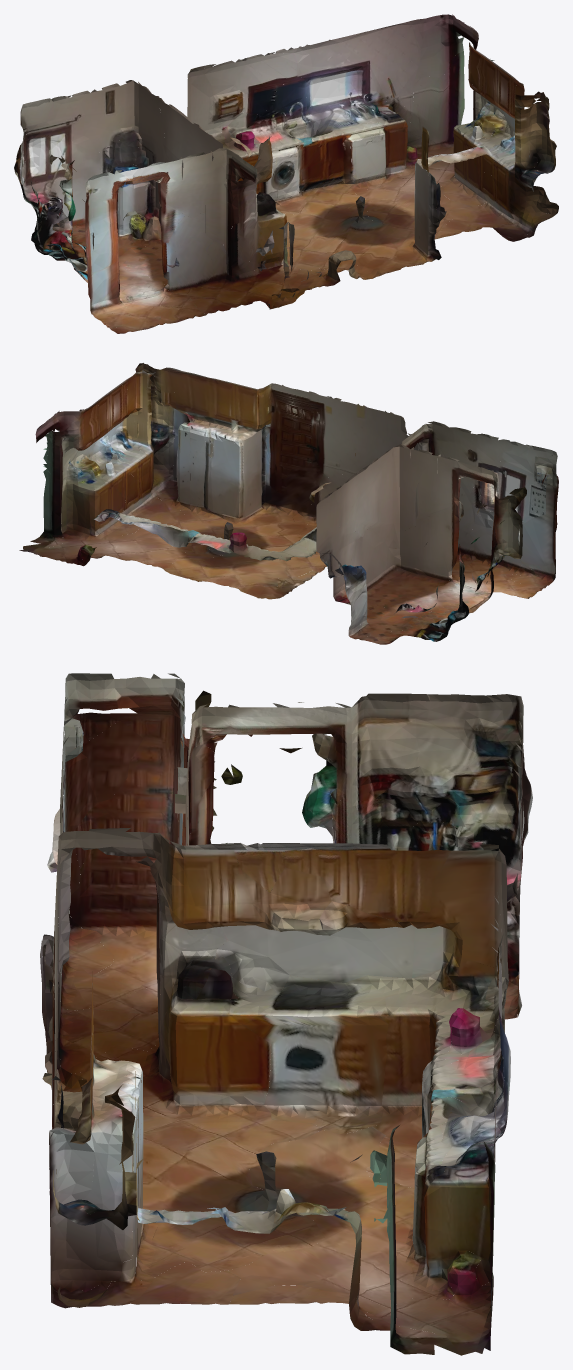
File: esc_baja_muros_02.glb
The picture shows the model from 3 angles, top to bottom: view 1: azimuth 30°, elevation 25°; view 2: azimuth 150°, elevation 25°; view 3: azimuth 270°, elevation 25°; orthographic projection. The views are drawn at different scales.
Parts seen in each view (by area): view 1: muros_Planta_principal_2_GLTF_13, muros_Planta_principal_2_GLTF_11, muros_Planta_principal_2_GLTF_7, muros_Planta_principal_2_GLTF_8, muros_Planta_principal_2_GLTF_1, muros_Planta_principal_2_GLTF_12, muros_Planta_principal_2_GLTF_4, muros_Planta_principal_2_GLTF_2, muros_Planta_principal_2_GLTF_14, muros_Planta_principal_2_GLTF_10, muros_Planta_principal_2_GLTF_5, muros_Planta_principal_2_GLTF_6 (+3 smaller); view 2: muros_Planta_principal_2_GLTF_7, muros_Planta_principal_2_GLTF_5, muros_Planta_principal_2_GLTF_3, muros_Planta_principal_2_GLTF_13, muros_Planta_principal_2_GLTF_14, muros_Planta_principal_2_GLTF_2, muros_Planta_principal_2_GLTF_15, muros_Planta_principal_2_GLTF_11, muros_Planta_principal_2_GLTF_10, muros_Planta_principal_2_GLTF, muros_Planta_principal_2_GLTF_4, muros_Planta_principal_2_GLTF_8 (+4 smaller); view 3: muros_Planta_principal_2_GLTF_14, muros_Planta_principal_2_GLTF_7, muros_Planta_principal_2_GLTF_6, muros_Planta_principal_2_GLTF_11, muros_Planta_principal_2_GLTF_5, muros_Planta_principal_2_GLTF_13, muros_Planta_principal_2_GLTF_2, muros_Planta_principal_2_GLTF_4, muros_Planta_principal_2_GLTF_15, muros_Planta_principal_2_GLTF, muros_Planta_principal_2_GLTF_3, muros_Planta_principal_2_GLTF_8 (+4 smaller).
Boxes of the visible parts, x1=… form: muros_Planta_principal_2_GLTF_13: x1=59, y1=61, x2=558, y2=329; muros_Planta_principal_2_GLTF_11: x1=162, y1=66, x2=471, y2=314; muros_Planta_principal_2_GLTF_7: x1=82, y1=90, x2=514, y2=308; muros_Planta_principal_2_GLTF_8: x1=22, y1=80, x2=279, y2=274; muros_Planta_principal_2_GLTF_1: x1=173, y1=21, x2=549, y2=266; muros_Planta_principal_2_GLTF_12: x1=124, y1=51, x2=541, y2=309; muros_Planta_principal_2_GLTF_4: x1=112, y1=34, x2=557, y2=326; muros_Planta_principal_2_GLTF_2: x1=92, y1=57, x2=529, y2=255; muros_Planta_principal_2_GLTF_14: x1=50, y1=90, x2=515, y2=297; muros_Planta_principal_2_GLTF_10: x1=411, y1=14, x2=556, y2=241; muros_Planta_principal_2_GLTF_5: x1=64, y1=152, x2=446, y2=270; muros_Planta_principal_2_GLTF_6: x1=14, y1=96, x2=340, y2=298; muros_Planta_principal_2_GLTF_7: x1=45, y1=429, x2=526, y2=577; muros_Planta_principal_2_GLTF_5: x1=261, y1=391, x2=505, y2=590; muros_Planta_principal_2_GLTF_3: x1=125, y1=370, x2=508, y2=615; muros_Planta_principal_2_GLTF_13: x1=93, y1=372, x2=554, y2=639; muros_Planta_principal_2_GLTF_14: x1=82, y1=367, x2=546, y2=599; muros_Planta_principal_2_GLTF_2: x1=43, y1=421, x2=529, y2=548; muros_Planta_principal_2_GLTF_15: x1=69, y1=376, x2=558, y2=585; muros_Planta_principal_2_GLTF_11: x1=85, y1=509, x2=476, y2=594; muros_Planta_principal_2_GLTF_10: x1=35, y1=363, x2=195, y2=508; muros_Planta_principal_2_GLTF: x1=66, y1=440, x2=552, y2=644; muros_Planta_principal_2_GLTF_4: x1=19, y1=418, x2=533, y2=580; muros_Planta_principal_2_GLTF_8: x1=316, y1=486, x2=522, y2=623; muros_Planta_principal_2_GLTF_14: x1=42, y1=716, x2=517, y2=1292; muros_Planta_principal_2_GLTF_7: x1=51, y1=690, x2=399, y2=1330; muros_Planta_principal_2_GLTF_6: x1=65, y1=673, x2=523, y2=1119; muros_Planta_principal_2_GLTF_11: x1=49, y1=844, x2=508, y2=1314; muros_Planta_principal_2_GLTF_5: x1=52, y1=737, x2=451, y2=1133; muros_Planta_principal_2_GLTF_13: x1=69, y1=748, x2=517, y2=1304; muros_Planta_principal_2_GLTF_2: x1=49, y1=691, x2=505, y2=1292; muros_Planta_principal_2_GLTF_4: x1=54, y1=961, x2=494, y2=1355; muros_Planta_principal_2_GLTF_15: x1=54, y1=721, x2=362, y2=1169; muros_Planta_principal_2_GLTF: x1=42, y1=722, x2=519, y2=1330; muros_Planta_principal_2_GLTF_3: x1=40, y1=702, x2=351, y2=1172; muros_Planta_principal_2_GLTF_8: x1=161, y1=738, x2=532, y2=1091.
Size of the model in its own units: 8.33 by 2.46 by 4.02.
Materials: 16 (16 with a texture image).
